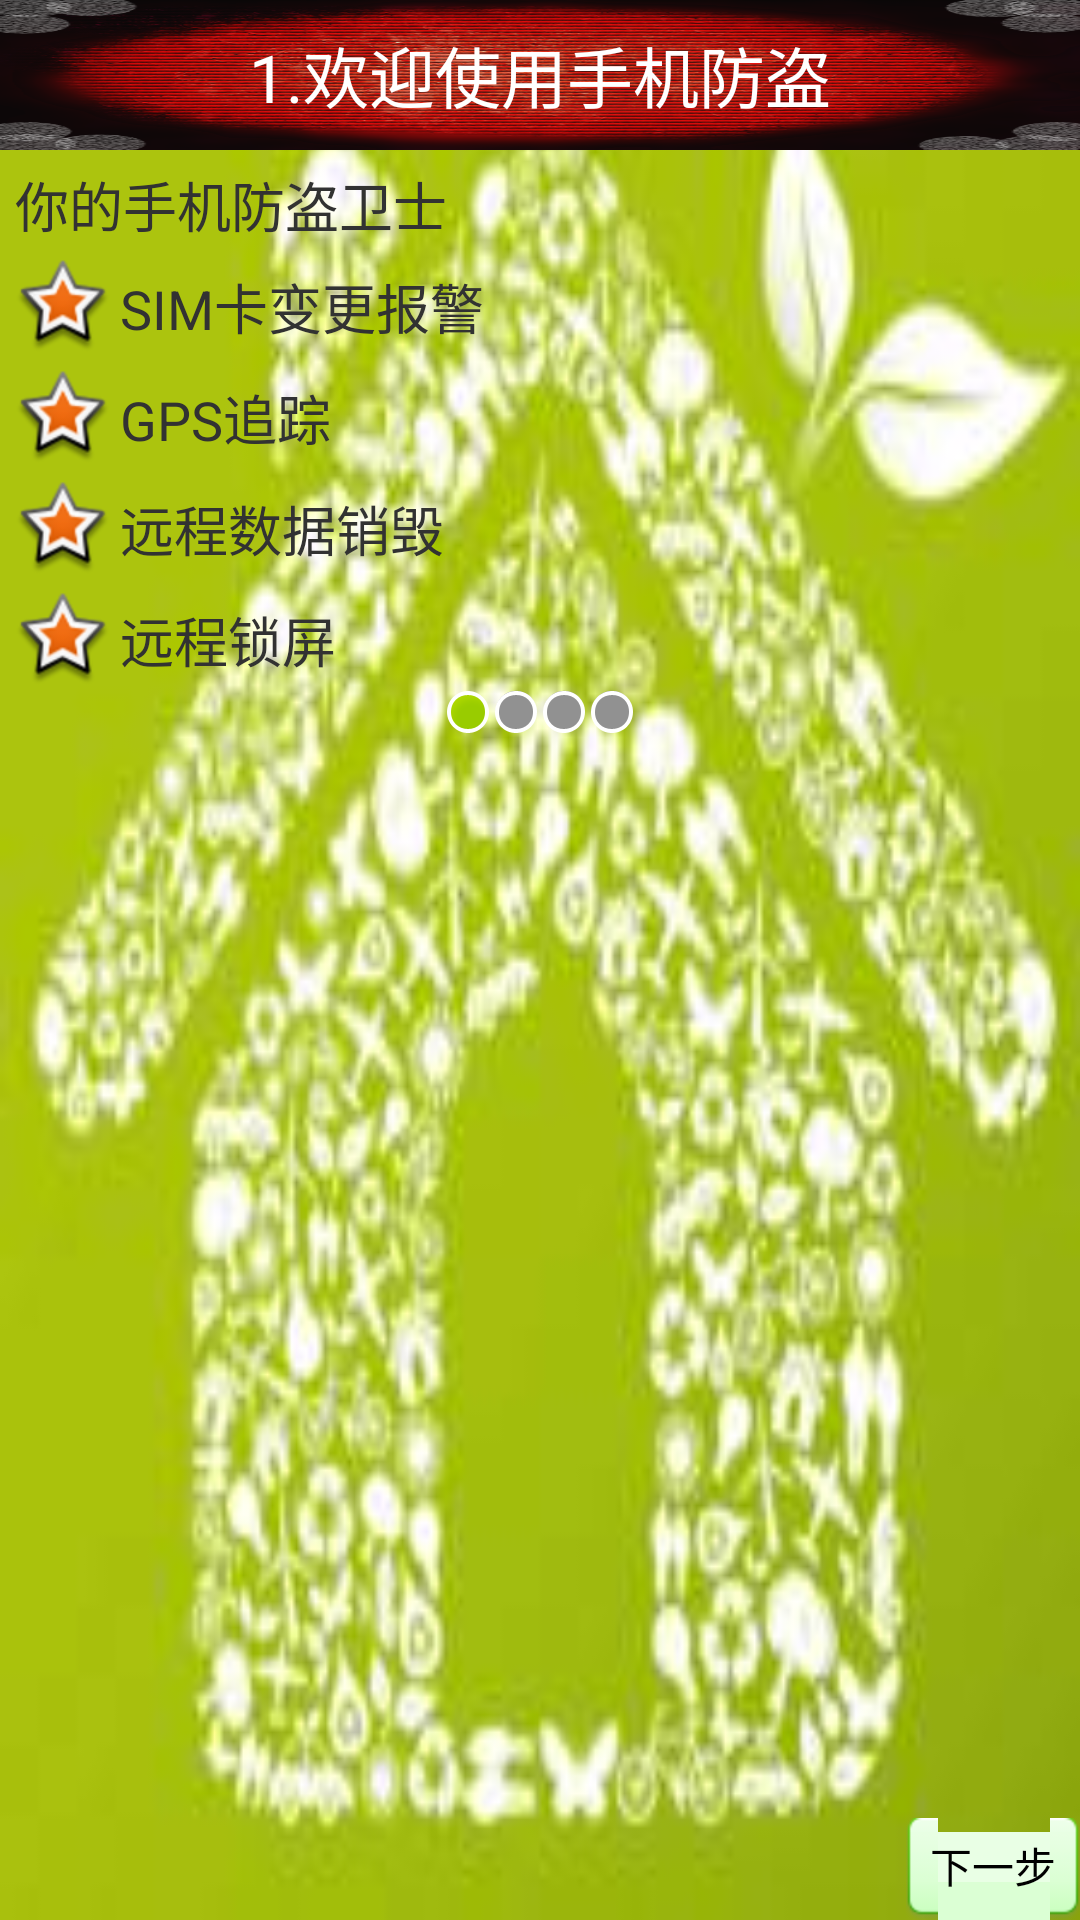

Icon click points for this 1080w x 1920h phone screenshot, format (x,y):
presence invisible: (516,712), (564,712), (612,712)
presence online: (468,712)
